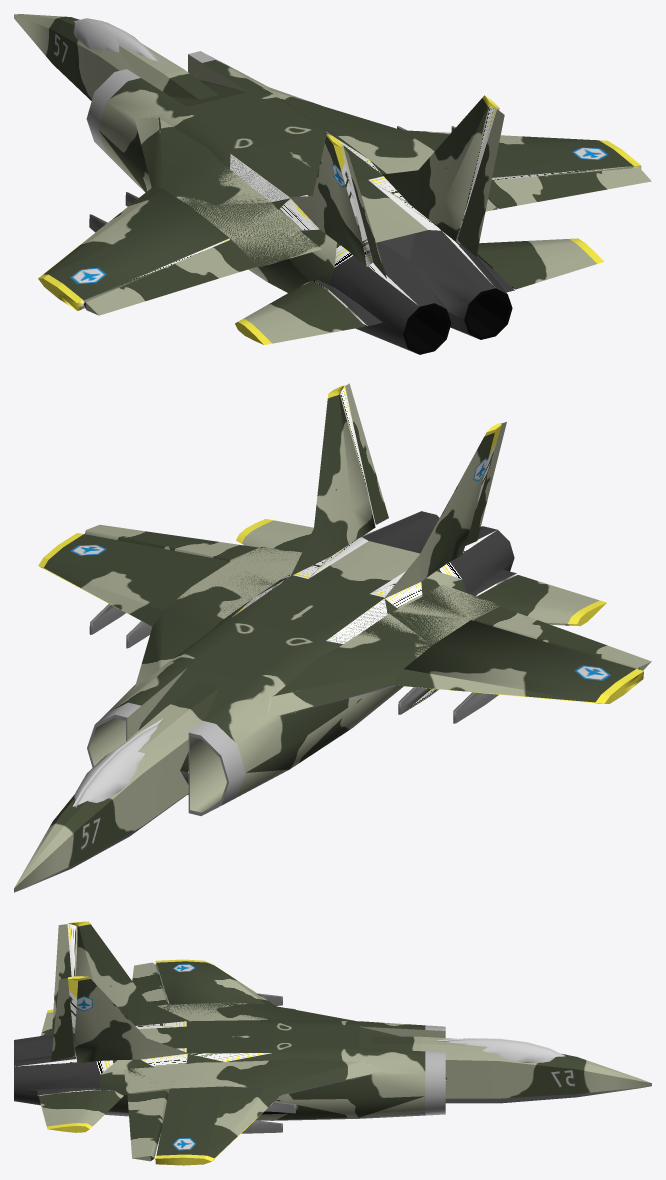
The model's file is NewFighterPlane.fbx.
3 renders of one model, top to bottom at view 1: azimuth 30°, elevation 25°; view 2: azimuth 150°, elevation 25°; view 3: azimuth 270°, elevation 25°, orthographic. The views are drawn at different scales.
Parts seen in each view (by area): view 1: Fuselage, LeftWing, LeftBaseWing, RightBackWing, RightWing., LeftBackWing, ElevatorLeft, RightBaseWing, LeftFlap, ElevatorRight, RightFlap, RightRudder (+1 smaller); view 2: Fuselage, LeftWing, LeftBaseWing, RightWing., RightBaseWing, RightBackWing, LeftBackWing, ElevatorLeft, LeftFlap, RightFlap, ElevatorRight, RightRudder (+1 smaller); view 3: Fuselage, RightWing., RightBaseWing, RightBackWing, LeftBackWing, LeftWing, ElevatorRight, LeftBaseWing, RightFlap, RightRudder, LeftFlap, LeftRudder.
Boxes of the visible parts, x1,y1,x2,y2 form: Fuselage: (14,14,514,354); LeftWing: (38,187,229,310); LeftBaseWing: (134,117,321,266); RightBackWing: (382,95,499,244); RightWing.: (397,126,641,180); LeftBackWing: (289,134,372,266); ElevatorLeft: (235,281,365,344); RightBaseWing: (266,86,497,211); LeftFlap: (83,240,257,315); ElevatorRight: (477,238,604,289); RightFlap: (488,167,651,208); RightRudder: (457,109,504,256); Fuselage: (14,511,516,892); LeftWing: (391,620,643,723); LeftBaseWing: (267,584,499,718); RightWing.: (38,533,230,648); RightBaseWing: (135,547,301,686); RightBackWing: (290,385,375,576); LeftBackWing: (384,423,501,598); ElevatorLeft: (477,575,606,626); LeftFlap: (474,606,651,670); RightFlap: (84,524,258,561); ElevatorRight: (236,519,313,552); RightRudder: (345,383,388,524); Fuselage: (14,1020,651,1120); RightWing.: (155,1086,295,1165); RightBaseWing: (124,1058,383,1095); RightBackWing: (68,976,188,1062); LeftBackWing: (68,921,189,1025); LeftWing: (155,959,295,1009); ElevatorRight: (38,1090,123,1132); LeftBaseWing: (158,1002,356,1021); RightFlap: (127,1090,168,1161); RightRudder: (51,978,74,1061); LeftFlap: (132,962,168,1005); LeftRudder: (52,924,72,1030).
Bounding box in the file's own units: 1086 × 397 × 1477.
